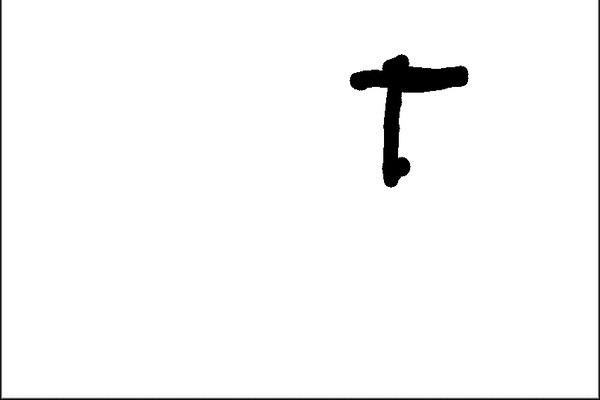T: (349, 41, 476, 194)
